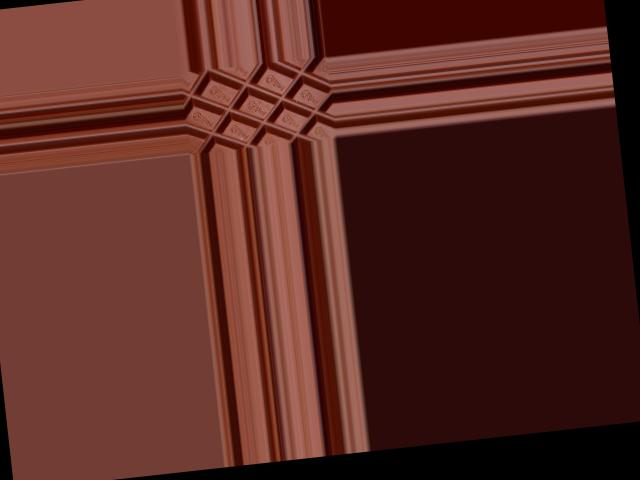chocolate: (180, 55, 331, 151)
